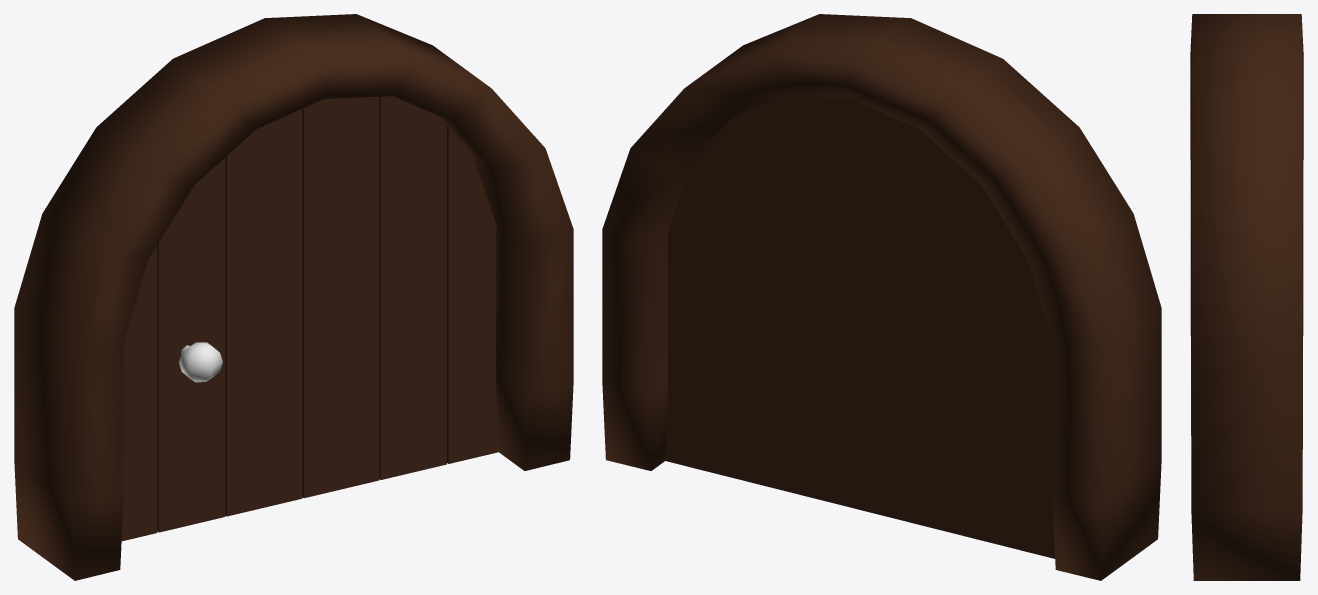
Rendered from Door_fixed_mushroom.fbx.
3 renders of one model, left to right at view 1: azimuth 30°, elevation 25°; view 2: azimuth 150°, elevation 25°; view 3: azimuth 270°, elevation 25°, orthographic. The views are drawn at different scales.
Visible parts, largest first — view 1: Door, Door frame, Door Handle; view 2: Door, Door frame; view 3: Door frame.
Boxes of the visible parts, bbox=[...] form: Door: bbox=[121, 96, 498, 541]; Door frame: bbox=[14, 14, 573, 580]; Door Handle: bbox=[179, 342, 222, 382]; Door: bbox=[666, 96, 1055, 558]; Door frame: bbox=[602, 14, 1161, 580]; Door frame: bbox=[1190, 14, 1303, 580].
Bounding box in the file's own units: 56.39 × 49.66 × 11.89.
